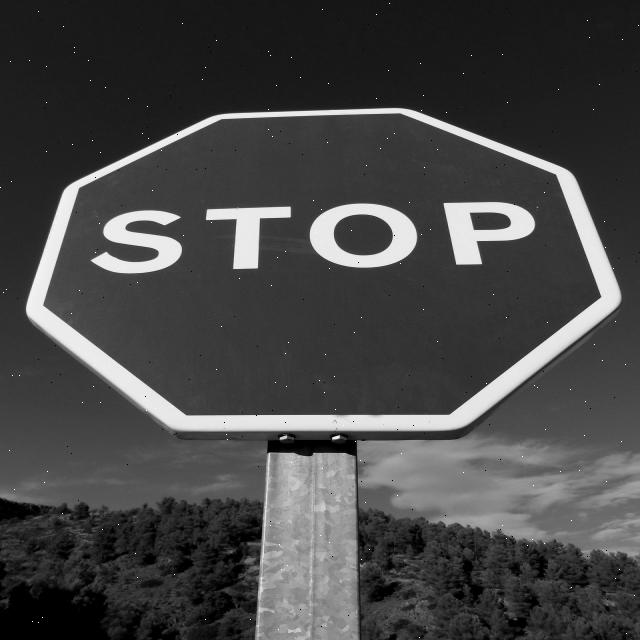Stop-sign: (12, 94, 640, 448)
